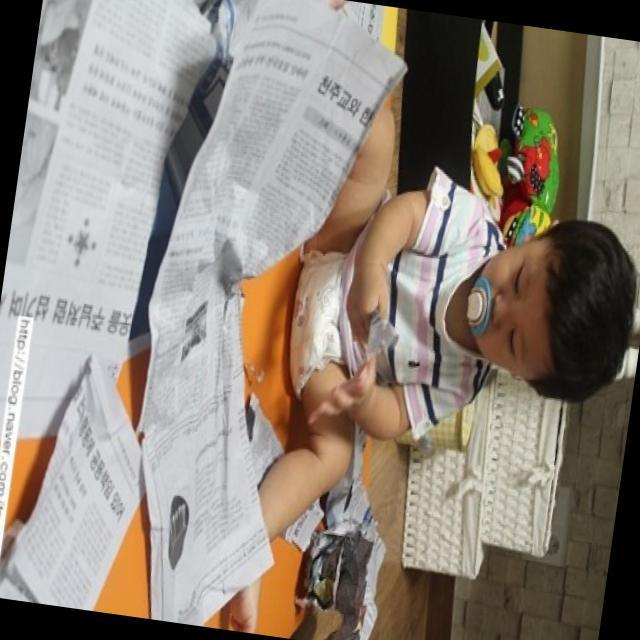reuseable_paper: (119, 5, 397, 640), (0, 0, 200, 444)
